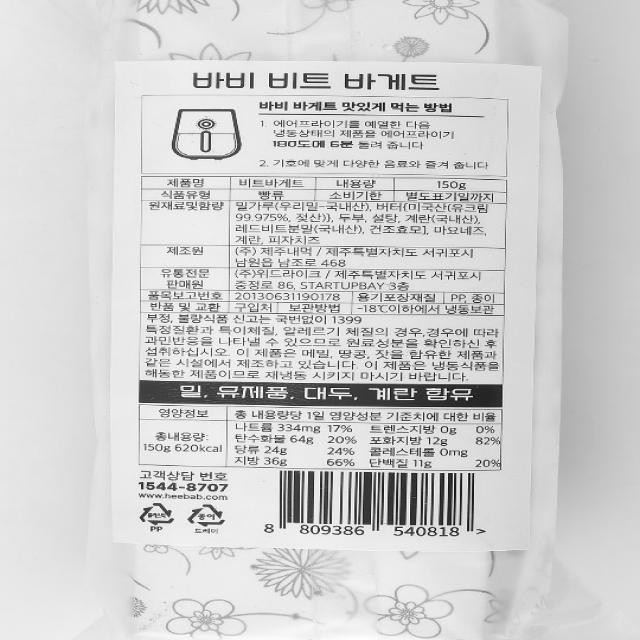Nutrition Label: (133, 401, 530, 486)
